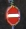No entry: (5, 5, 21, 24)
